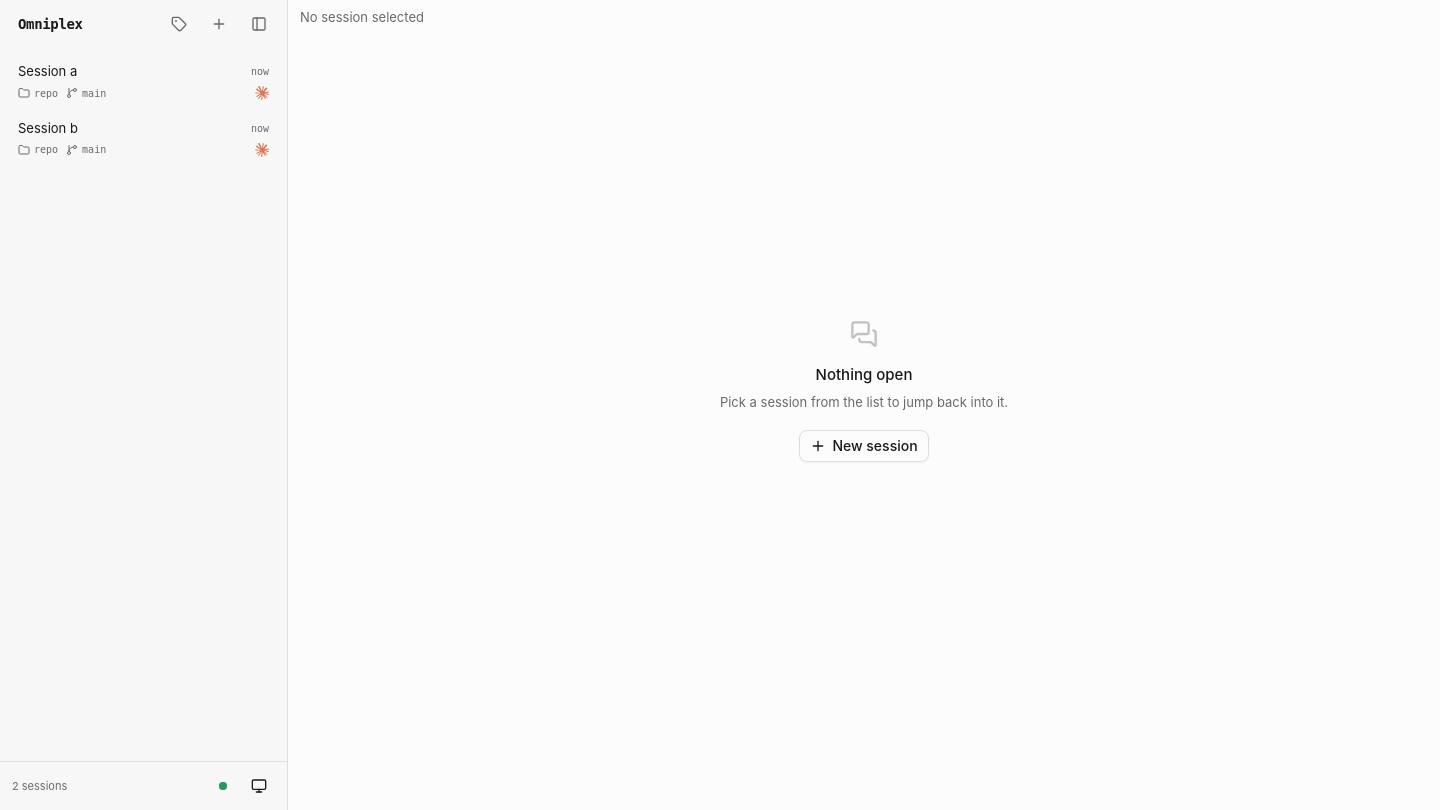
Test case: composer drafts › inserts a provider-native skill completion without executing it
The image size is (1440, 810).
Click the text "Session a". click: (48, 71)
box: [18,63,77,79]
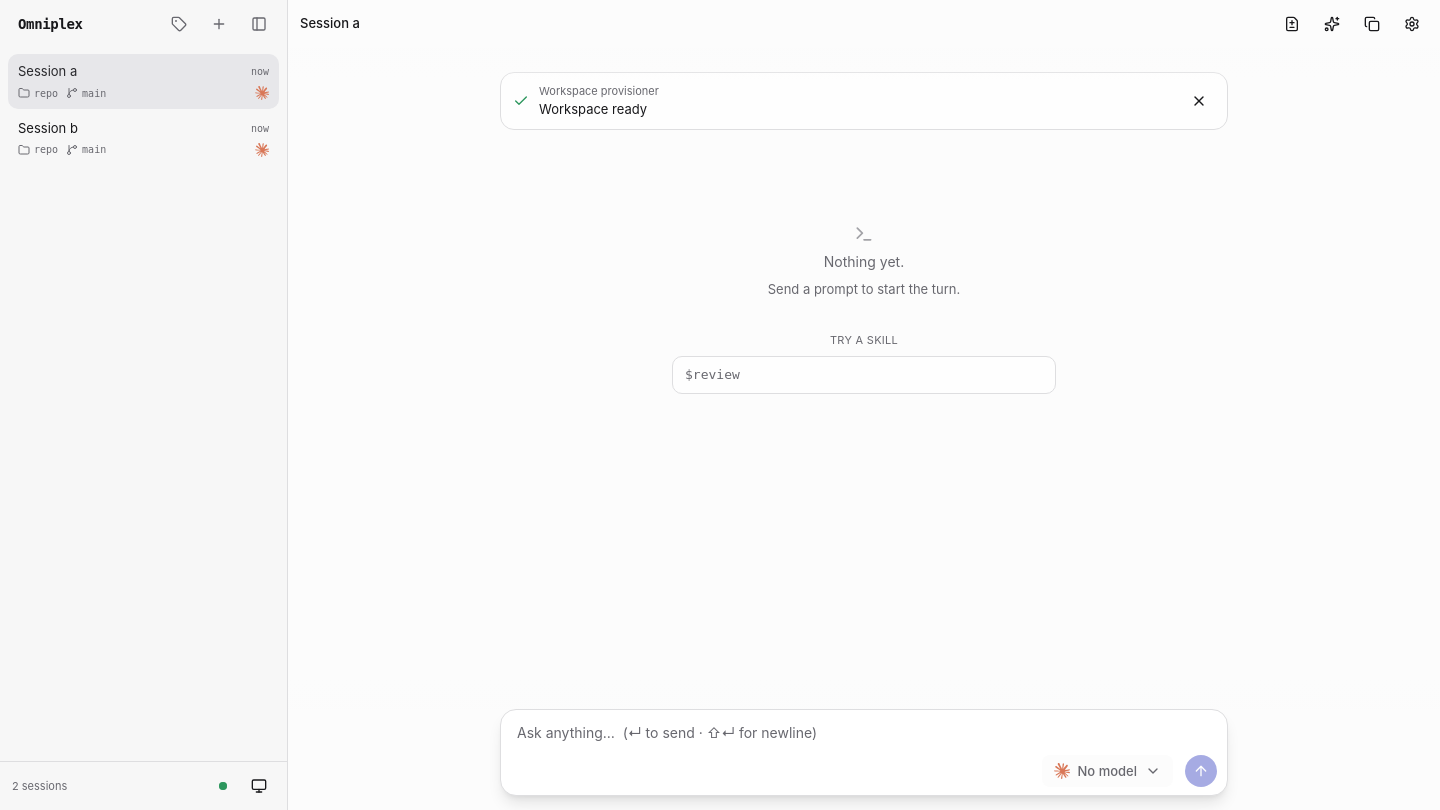
Type "$rev" into the text box named "Message". click: (864, 730)
box: [501,710,1227,749]
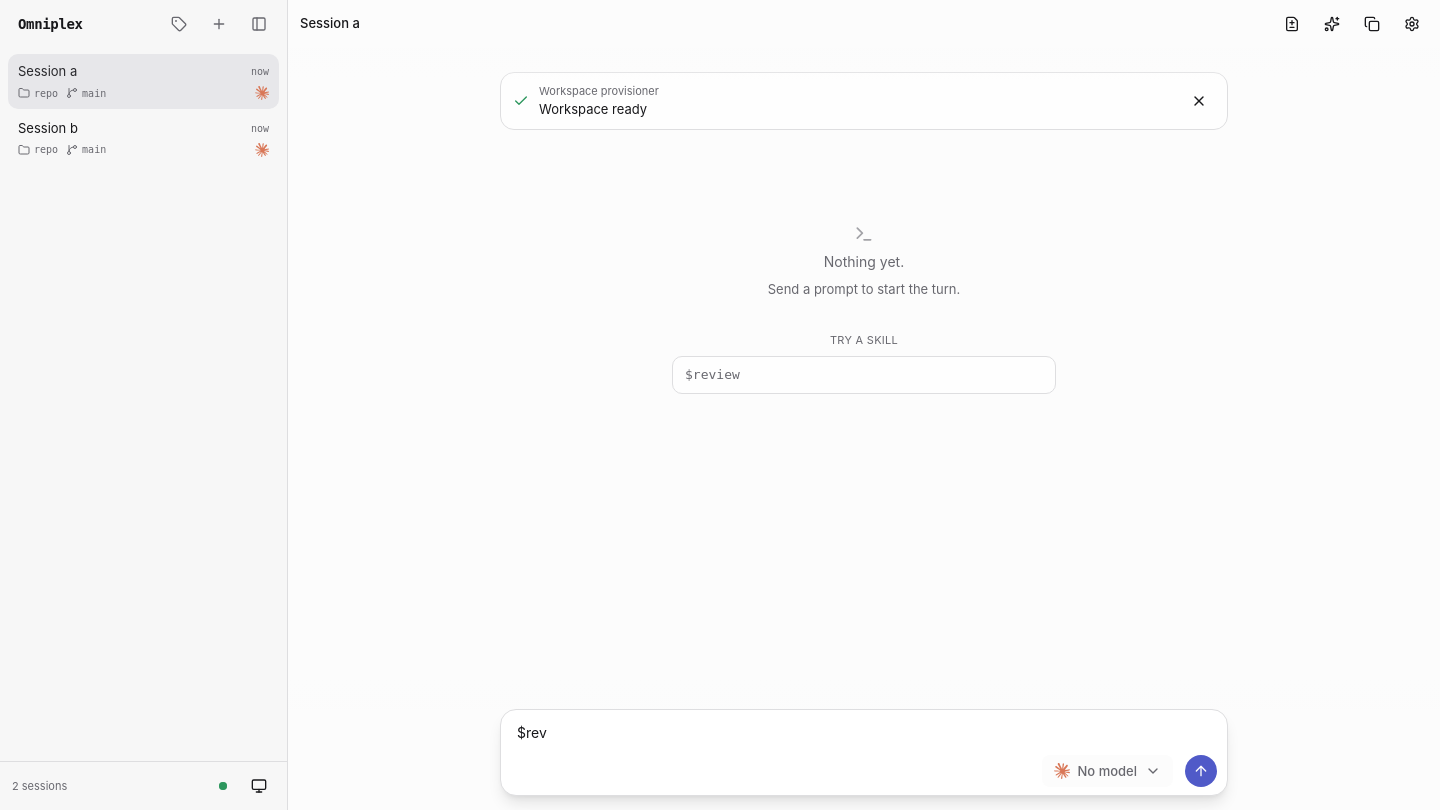
Press Enter in the text box named "Message", box [501,710,1227,749]
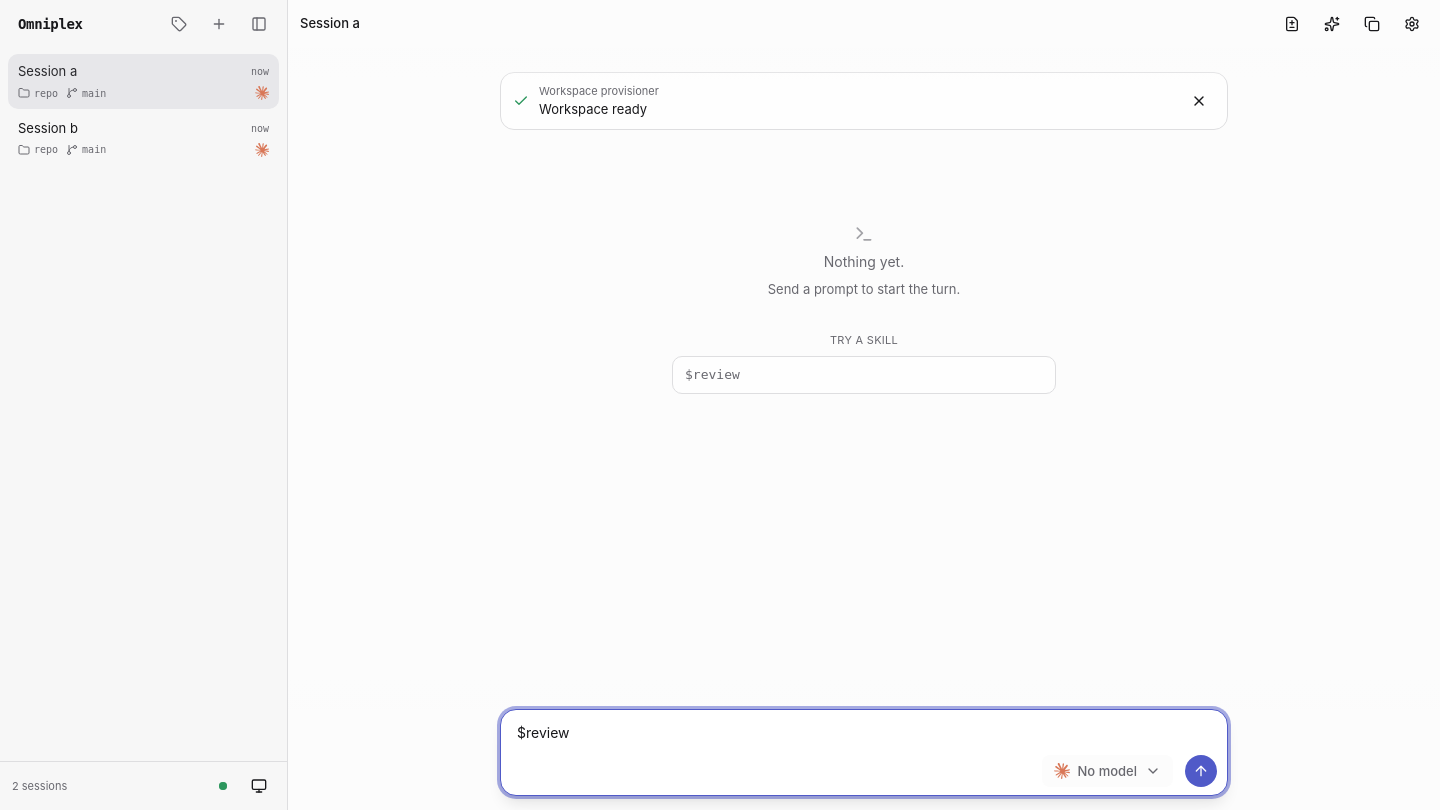
Expected: the text box named "Message" holds "$review ", [501,710,1227,749]
